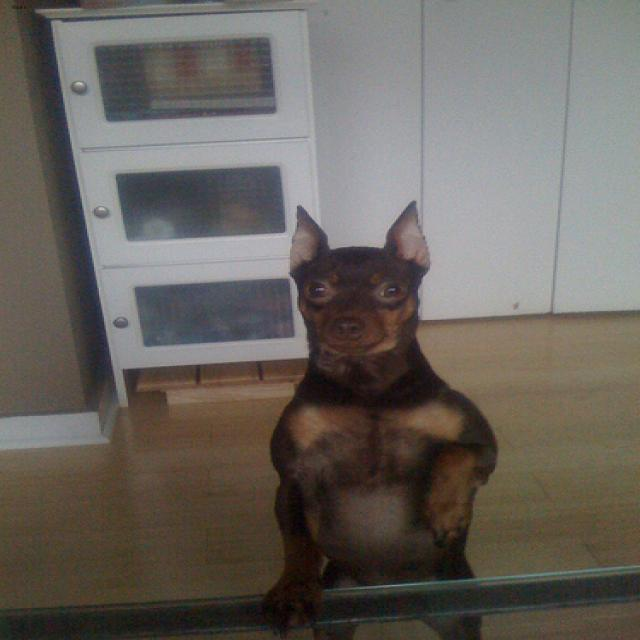dog-miniature_pinscher: (256, 191, 510, 637)
